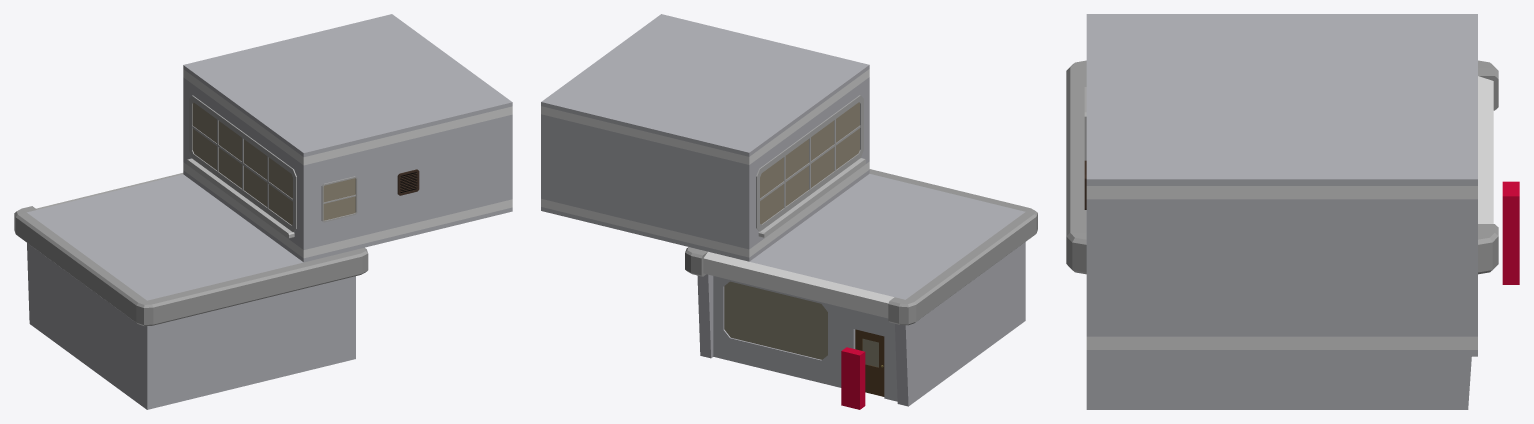
3 views of the same model, side by side, from view 1: azimuth 30°, elevation 25°; view 2: azimuth 150°, elevation 25°; view 3: azimuth 270°, elevation 25° (orthographic). The views are drawn at different scales.
Parts seen in each view (by area): view 1: ModuleStore.001, ModuleBuilding2, ModuleWindow1, ModuleWindow2, ModuleVent; view 2: ModuleStore.001, ModuleBuilding2, ModuleWindow1, PlayerSize; view 3: ModuleBuilding2, ModuleStore.001, PlayerSize.
Boxes of the visible parts, x1,y1,x2,y2 form: ModuleStore.001: (14,173,368,409); ModuleBuilding2: (183,14,512,262); ModuleWindow1: (186,95,296,238); ModuleWindow2: (321,176,357,222); ModuleVent: (397,169,419,195); ModuleStore.001: (685,169,1037,406); ModuleBuilding2: (541,14,869,261); ModuleWindow1: (756,95,865,238); PlayerSize: (841,347,865,409); ModuleBuilding2: (1086,14,1477,356); ModuleStore.001: (1066,60,1498,409); PlayerSize: (1502,181,1519,284).
Size of the model in its own units: 14.41 by 8 by 9.27.
